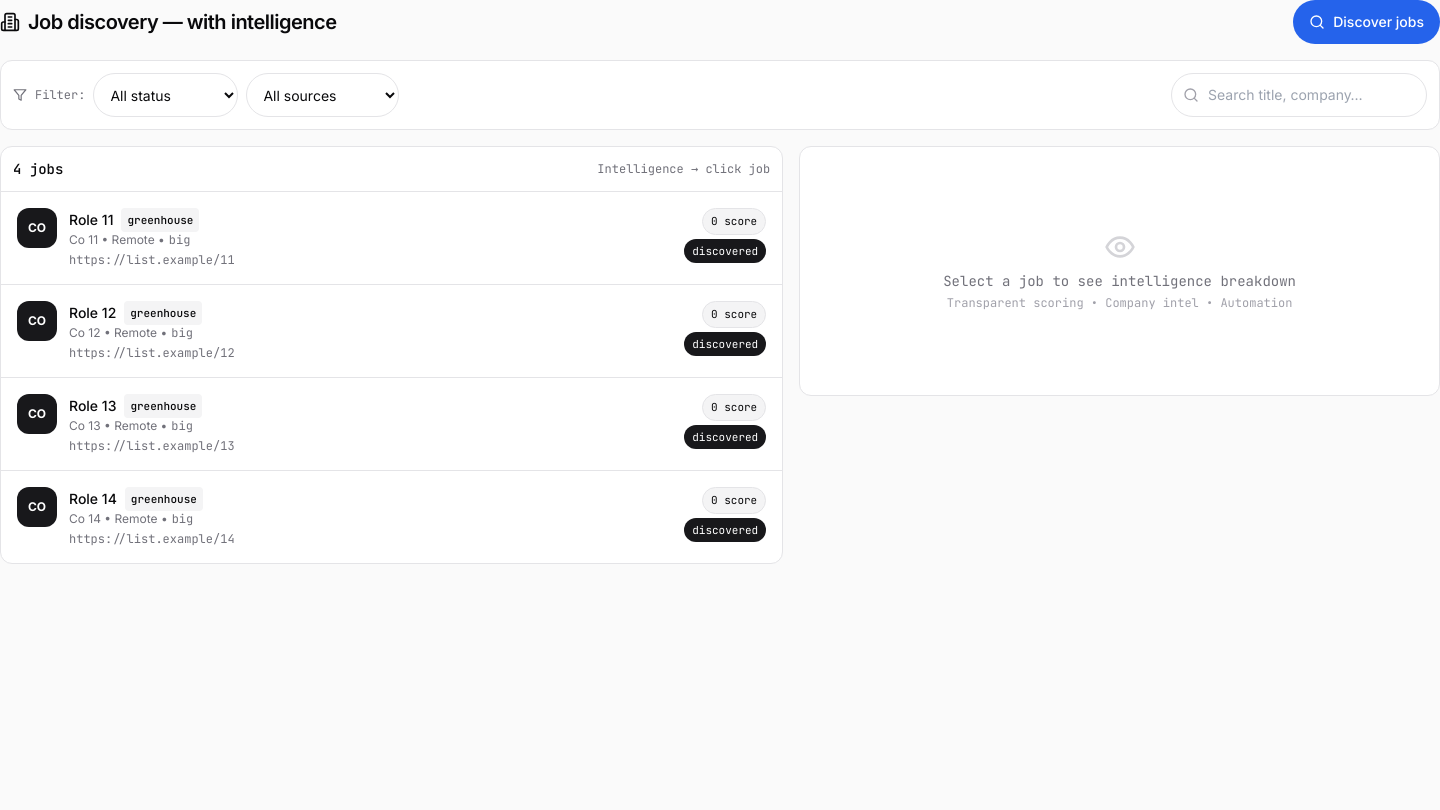
it: job selection under rapid clicking › a failed detail read is reported, not swallowed — and the panel still switches
Expected: the text "https://list.example/11" is shown, [69,252,235,268]
Click the text "https://list.example/12". click: (152, 353)
box: [69,345,235,361]
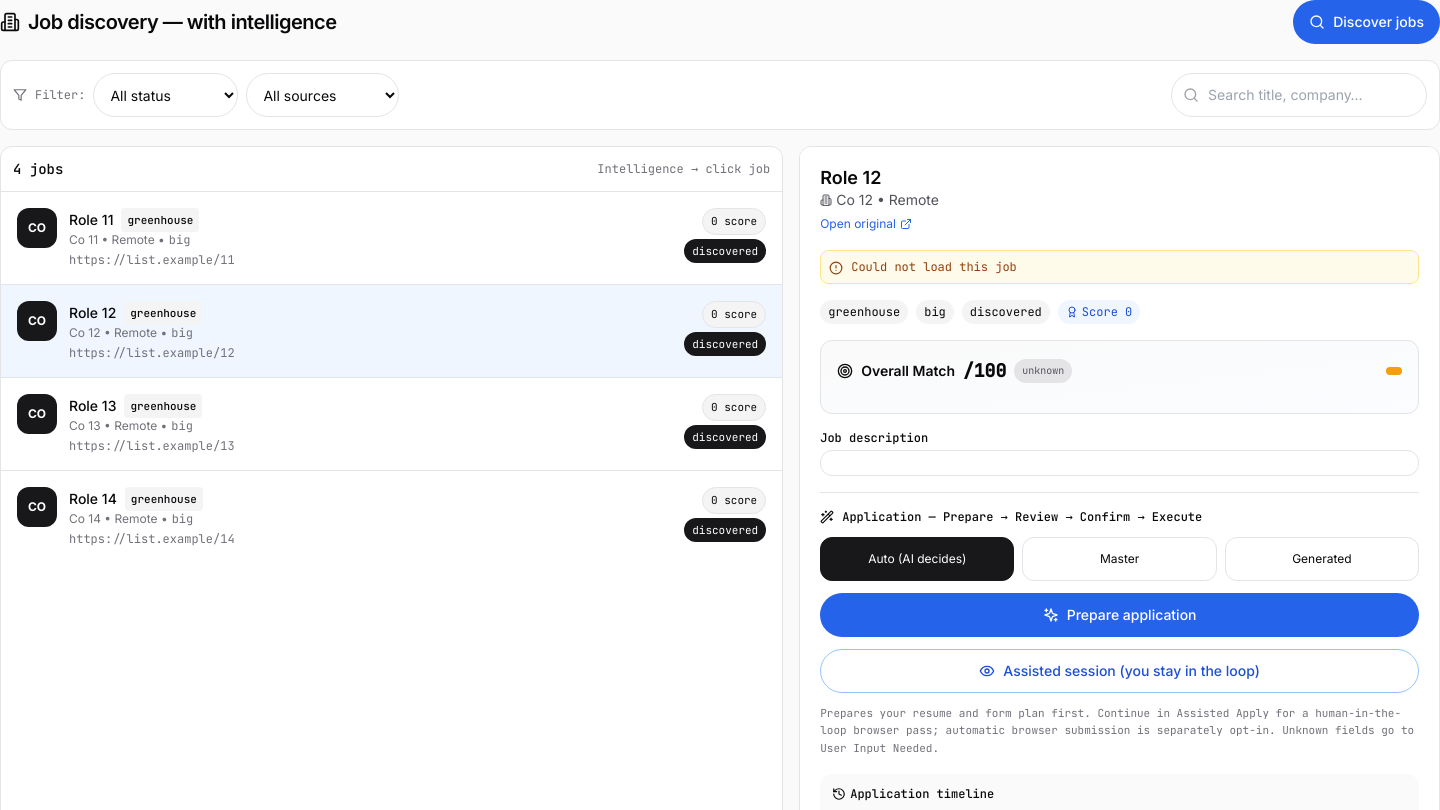
Now the text "Could not load this job" is shown, box [820,250,1419,284]
